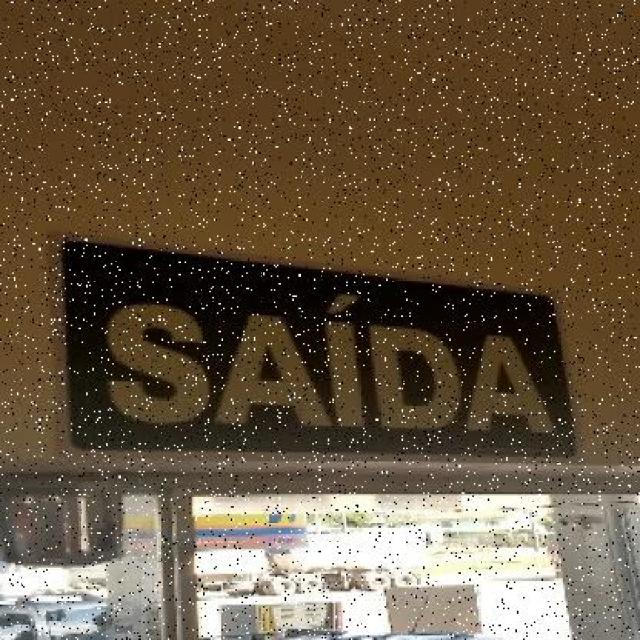emergency_exit: (61, 237, 578, 460)
